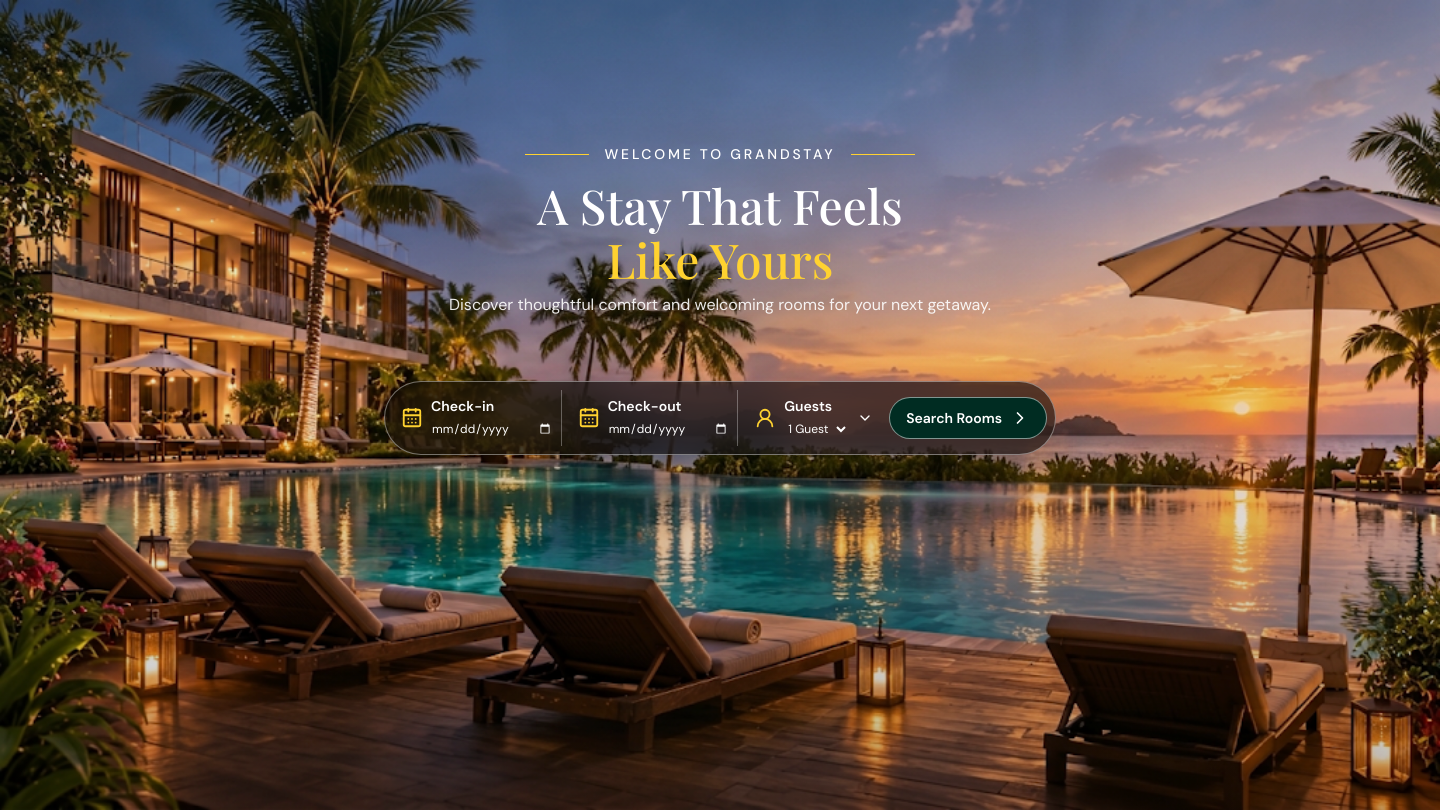
Test case: App › sends home-page searches to the public rooms route with all search criteria
The image size is (1440, 810).
Step 1. Type "2099-05-01" into the date field labelled "Check-in" → (492, 429), box [431,421,553,437]
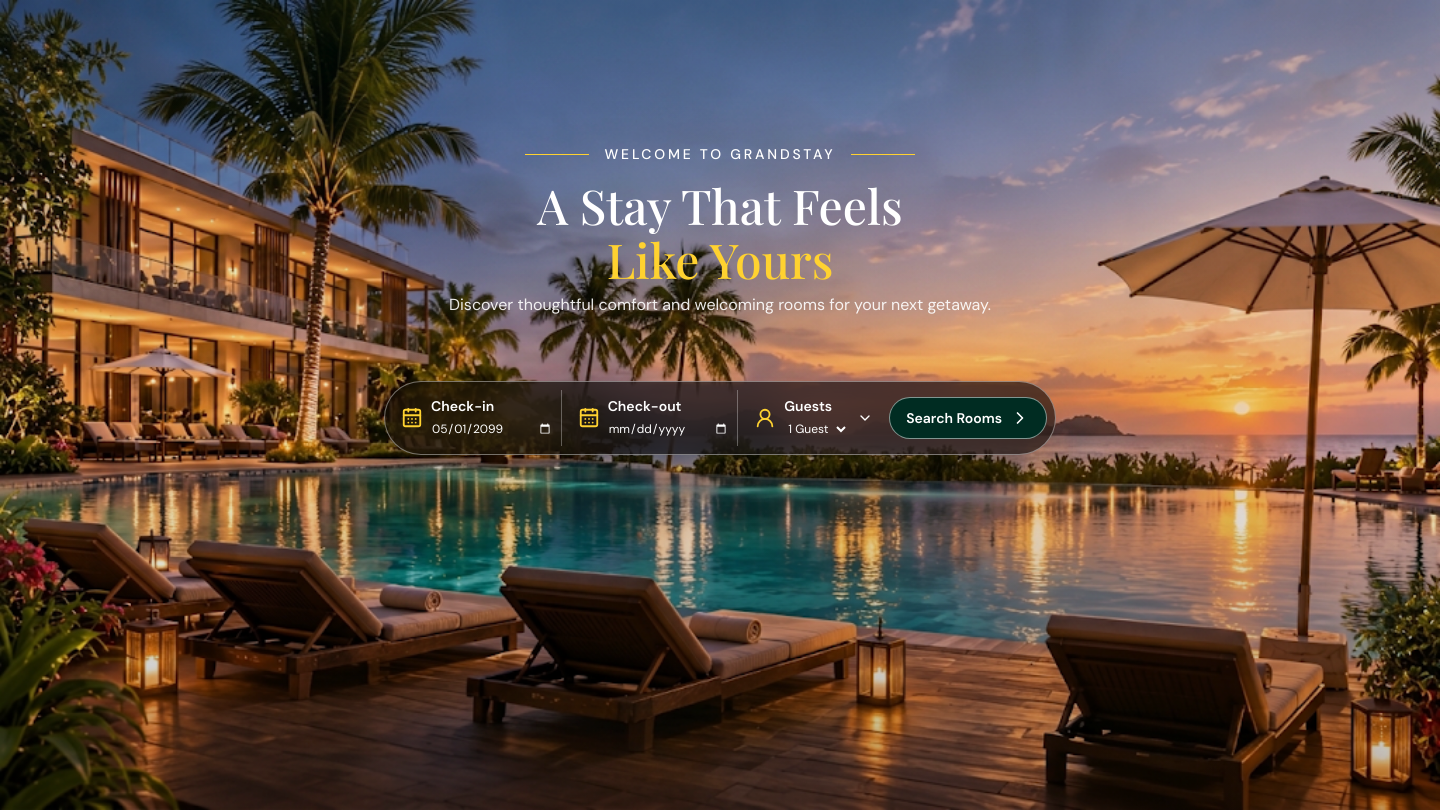
Step 2. Type "2099-05-03" into the date field labelled "Check-out" → (668, 429), box [608,421,729,437]
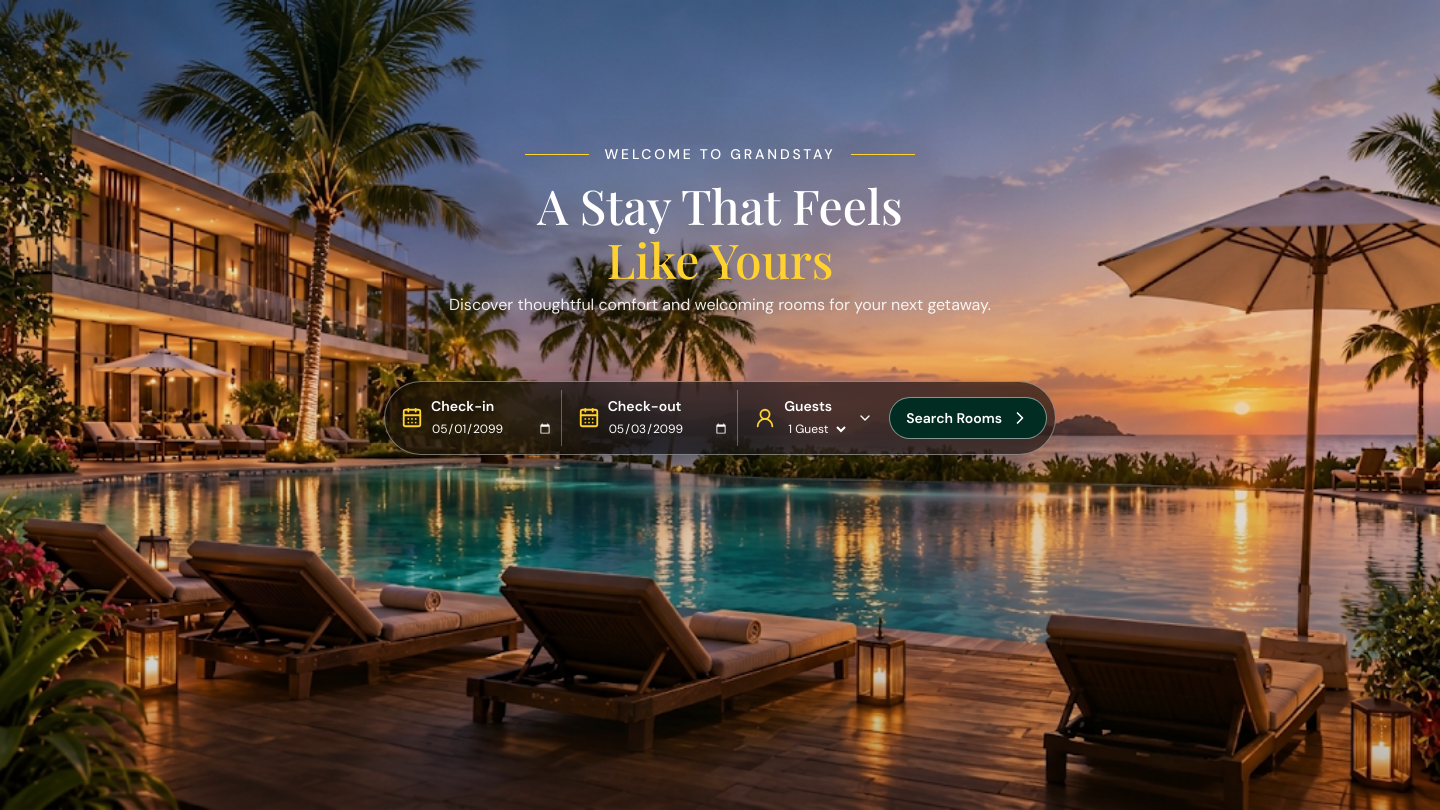
Step 3. Select "3 Guests" in the dropdown labelled "Guests" → (817, 429), box [784,420,849,438]
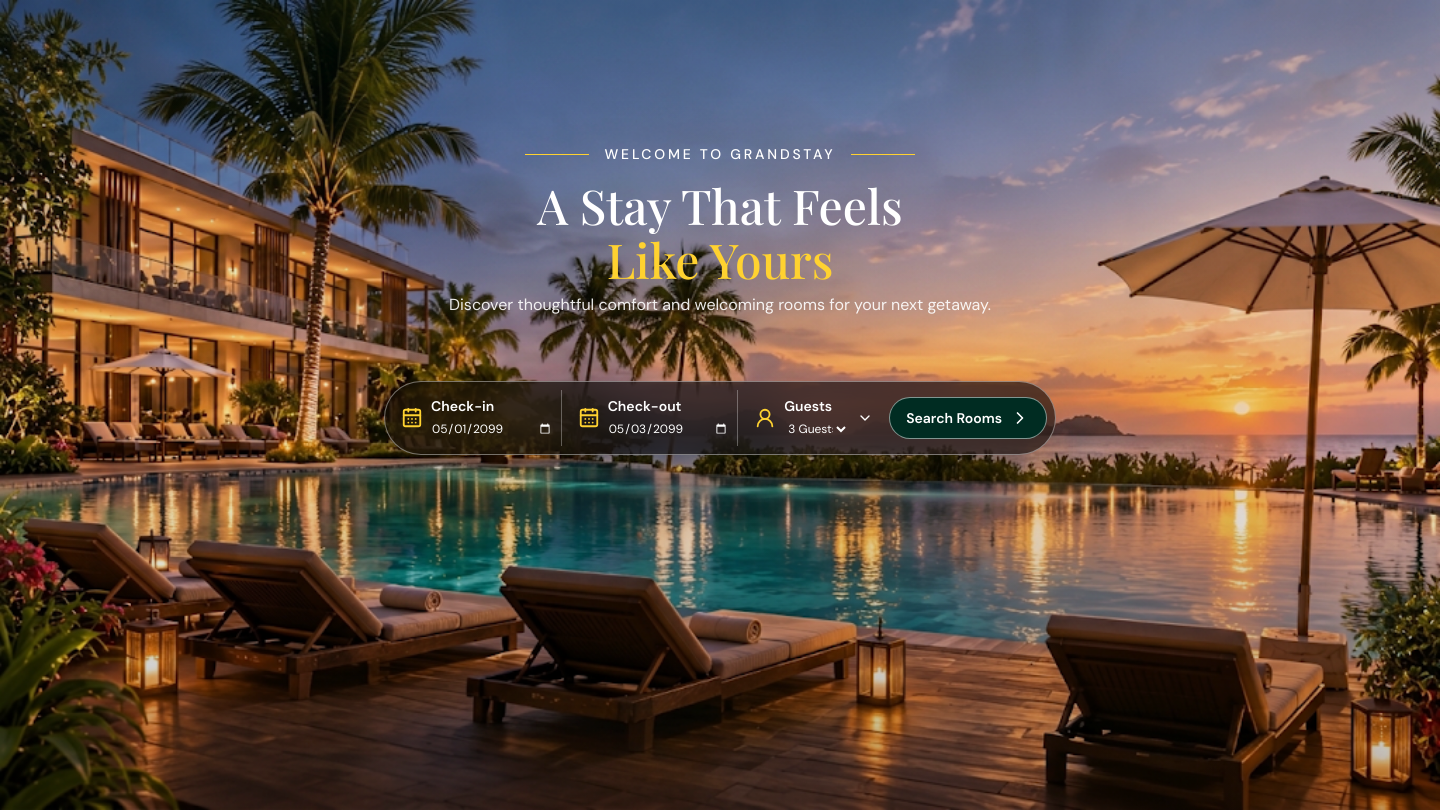
Step 4. Click the button "Search Rooms" → (968, 418), box [889,397,1047,439]
(page scrolled)
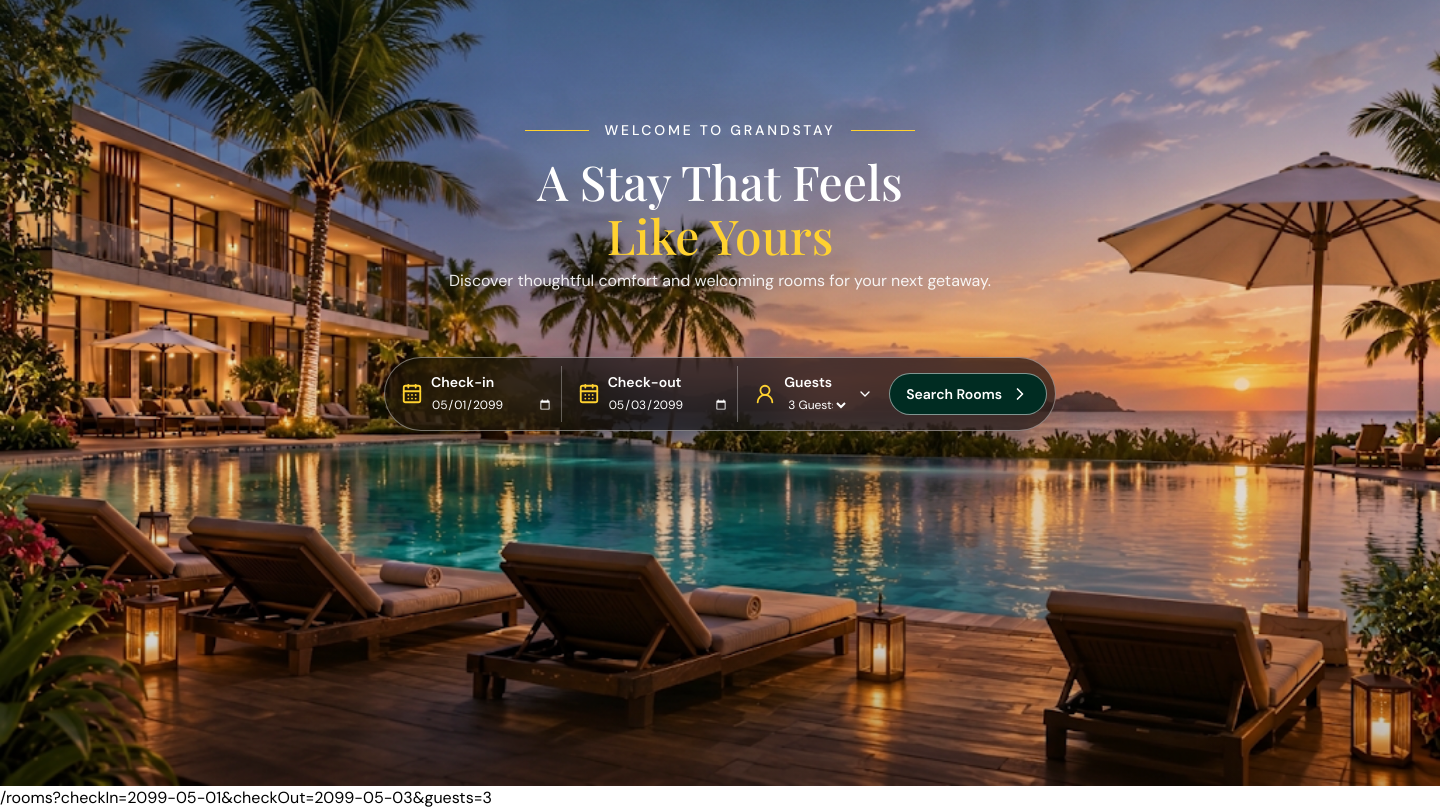
Now the text with test id "current-url" reads "/rooms?checkIn=2099-05-01&checkOut=2099-05-03&guests=3", box [0,787,492,808]
